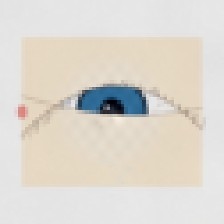foreign_body_visible: (32, 108, 76, 143)
